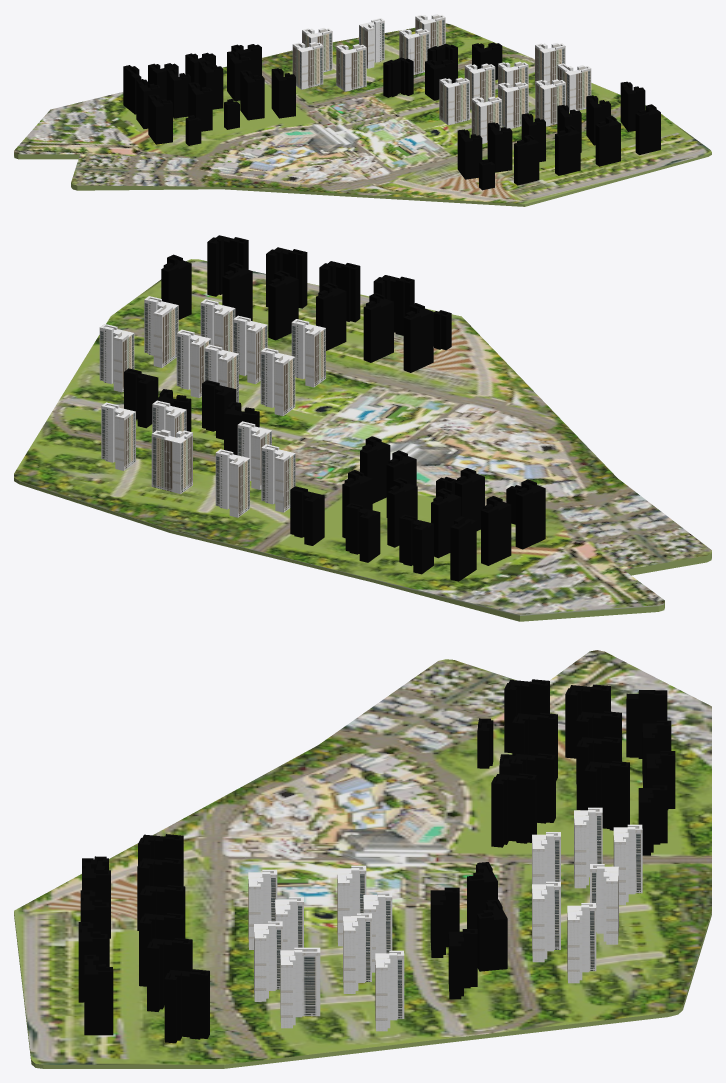
File: ICJ00103_B.glb
The picture shows the model from 3 angles, top to bottom: view 1: azimuth 30°, elevation 25°; view 2: azimuth 150°, elevation 25°; view 3: azimuth 270°, elevation 25°; orthographic projection. The views are drawn at different scales.
Parts seen in each view (by area): view 1: MainBuilding; view 2: MainBuilding; view 3: MainBuilding.
Part boxes in pixels (bbox=[...]): MainBuilding: bbox=[14, 14, 711, 206]; MainBuilding: bbox=[14, 235, 711, 621]; MainBuilding: bbox=[14, 650, 711, 1068].
Bounding box in the file's own units: 10637 × 878 × 7567.
Materials: 1 (1 with a texture image).
